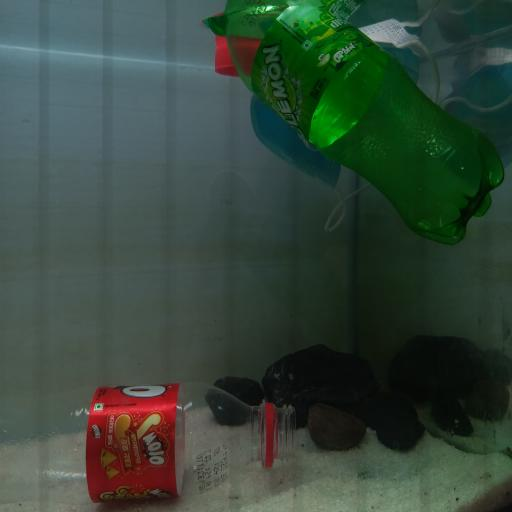bottle_cap: (214, 38, 263, 75)
mask: (250, 17, 440, 234)
plastic_bottle: (206, 2, 507, 240), (4, 383, 299, 503)
